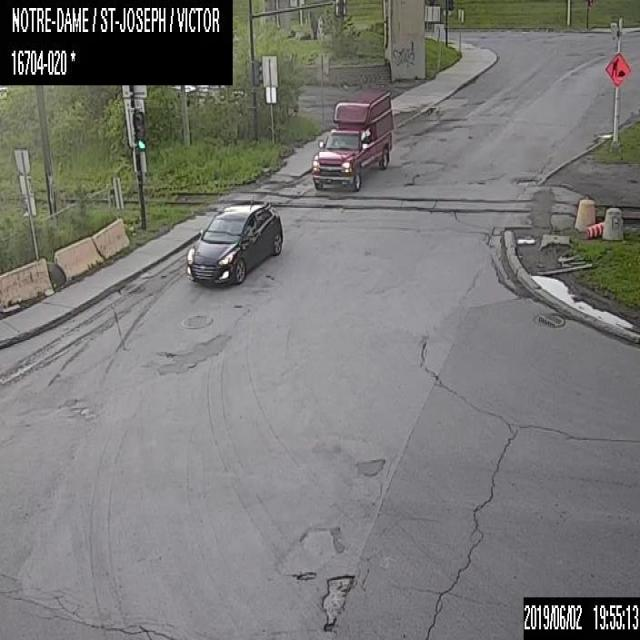construction: (604, 52, 630, 85), (586, 222, 603, 238)
vehicle: (185, 200, 282, 287), (311, 88, 393, 190)
